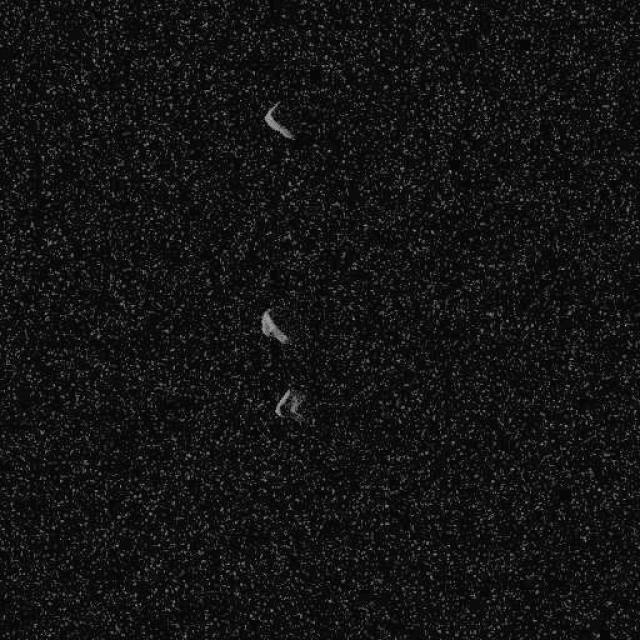D2: (274, 384, 308, 424), (263, 100, 295, 140), (259, 306, 290, 345)
